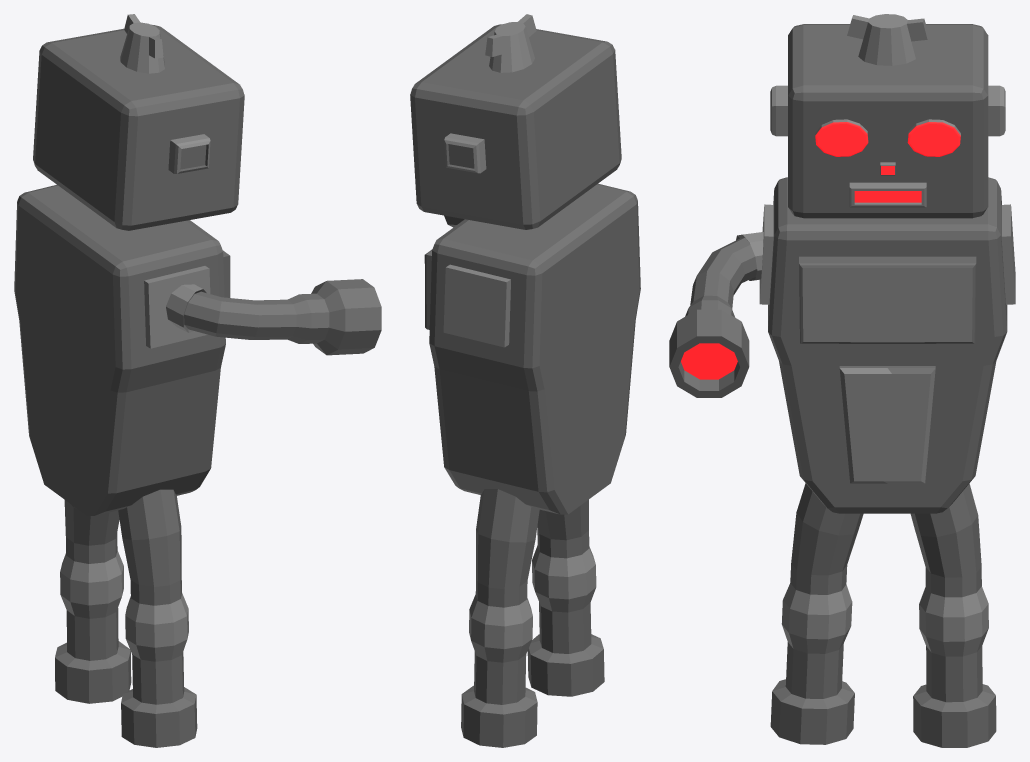
File: robot dañado(malosinbizq).glb
The picture shows the model from 3 angles, left to right: view 1: azimuth 30°, elevation 25°; view 2: azimuth 150°, elevation 25°; view 3: azimuth 270°, elevation 25°; orthographic projection. The views are drawn at different scales.
Parts seen in each view (by area): view 1: torso.001, cabeza.001, pierna 2, pierna, brazo2, hombro2; view 2: torso.001, cabeza.001, pierna, pierna 2, hombro; view 3: torso.001, cabeza.001, pierna, pierna 2, brazo2, hombro, hombro2.
Boxes of the visible parts, x1,y1,x2,y2 form: torso.001: [14, 185, 230, 515]; cabeza.001: [33, 14, 244, 230]; pierna 2: [118, 489, 197, 747]; pierna: [55, 500, 131, 703]; brazo2: [166, 279, 381, 355]; hombro2: [144, 266, 210, 348]; torso.001: [424, 183, 640, 514]; cabeza.001: [410, 14, 621, 229]; pierna: [461, 489, 539, 747]; pierna 2: [527, 499, 604, 696]; hombro: [443, 264, 510, 347]; torso.001: [768, 177, 1007, 513]; cabeza.001: [770, 14, 1005, 218]; pierna: [910, 483, 996, 747]; pierna 2: [770, 483, 863, 744]; brazo2: [669, 232, 763, 397]; hombro: [1001, 204, 1015, 304]; hombro2: [759, 204, 773, 304].
Bounding box in the file's own units: 3.04 × 8.97 × 3.88.
